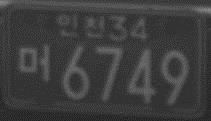3: (107, 15, 129, 41)
4: (127, 48, 157, 103), (131, 18, 149, 41)
6: (62, 45, 91, 99)
7: (94, 46, 123, 100)
9: (160, 49, 190, 104)
머: (18, 44, 51, 80)
인천_O: (57, 13, 104, 39)
